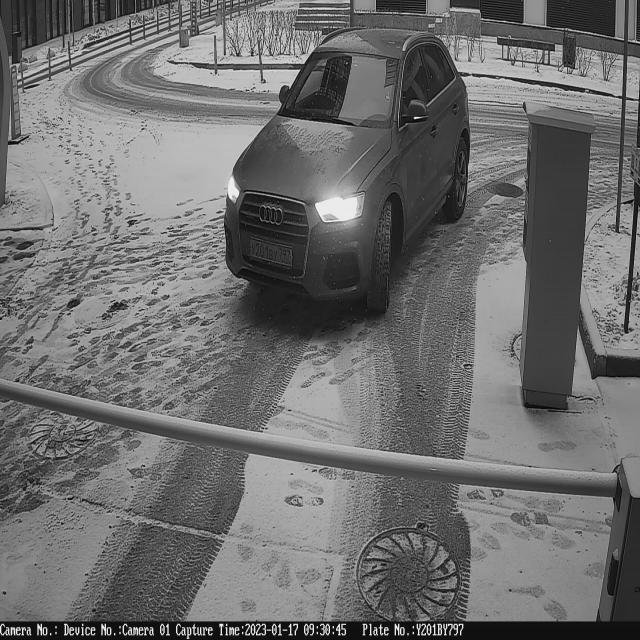car-plate-numbers: (247, 233, 296, 273)
